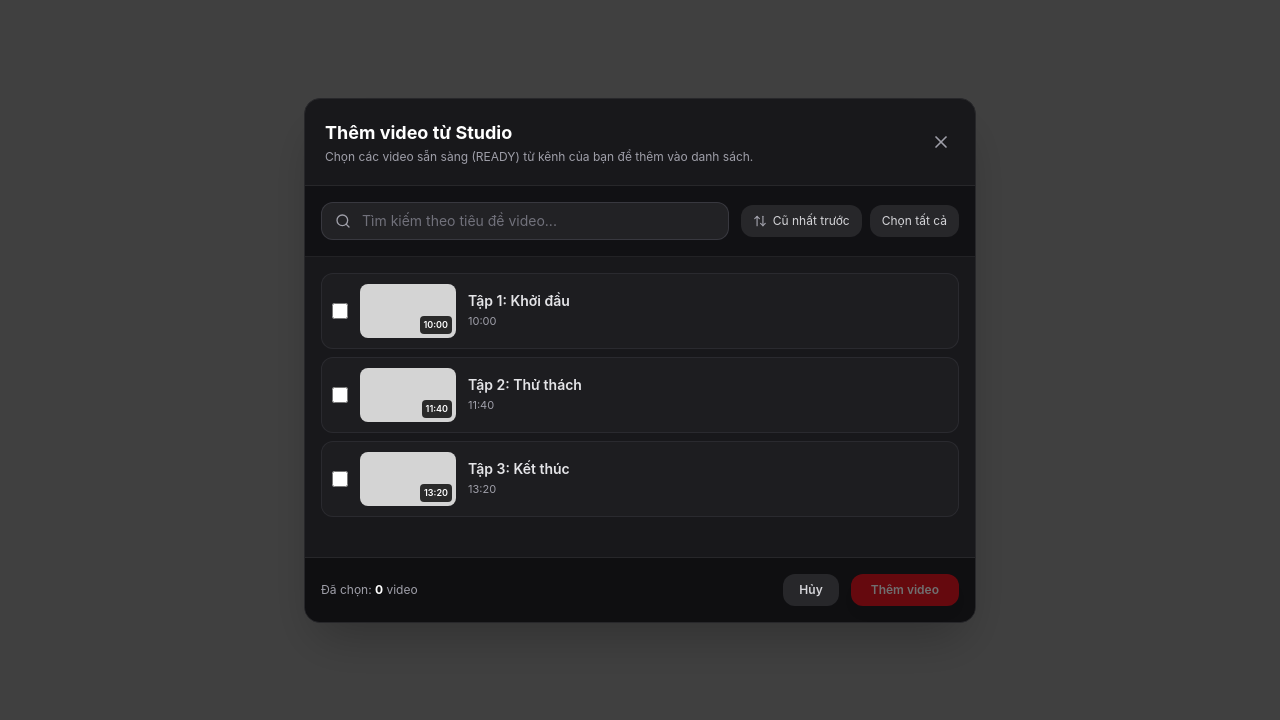
Scenario: PL2-web: Thư viện (Library) Page & Playlists Management › 4. Add My Videos Picker › lists own READY videos sorted oldest to newest by default, with toggleable direction
Expected: the element with test id "video-picker-item-vid-1" is shown, x1=321 y1=272 x2=959 y2=348
Expected: the element with test id "video-picker-item-vid-2" is shown, x1=321 y1=356 x2=959 y2=432
What coordinates should you click on to do the following:
click the button with test id "toggle-sort-direction"
I would click on:
 (801, 220)
Its box is x1=741 y1=204 x2=862 y2=236.
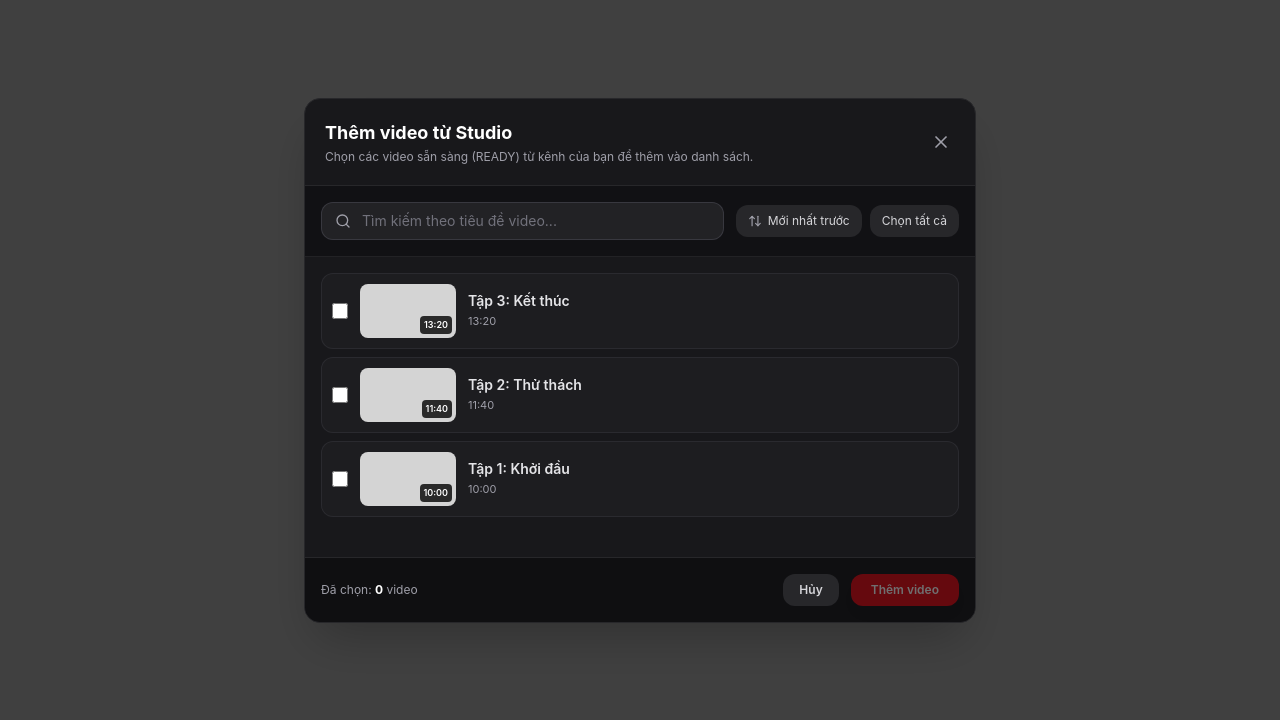
Now the button with test id "toggle-sort-direction" reads "Mới nhất trước"
What coordinates should you click on to do the following:
click the button with test id "toggle-sort-direction"
I would click on:
 (799, 220)
Its box is x1=736 y1=204 x2=862 y2=236.
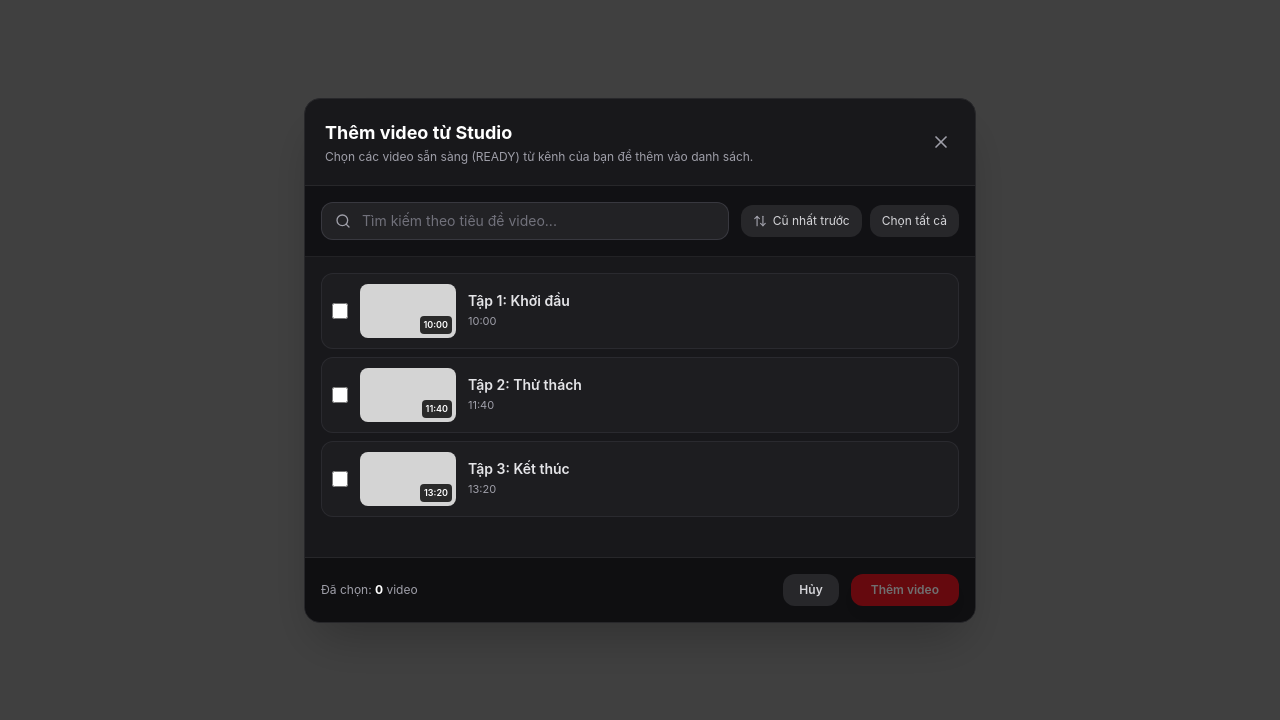
Now the button with test id "toggle-sort-direction" reads "Cũ nhất trước", box x1=741 y1=204 x2=862 y2=236
